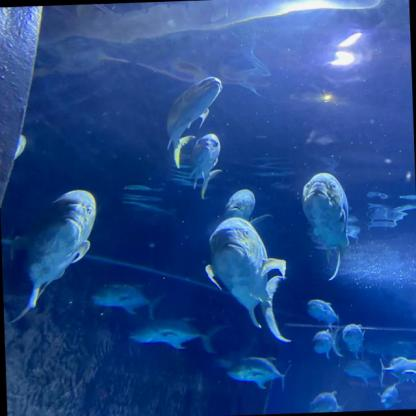fish: (204, 215, 291, 345), (19, 188, 99, 308), (164, 76, 226, 168), (302, 172, 351, 280), (129, 317, 231, 355), (92, 282, 164, 321), (189, 134, 223, 199), (228, 357, 293, 391), (223, 189, 270, 228), (378, 357, 415, 388), (310, 327, 341, 360), (306, 299, 339, 330), (344, 359, 384, 383), (307, 390, 348, 412), (342, 324, 366, 358), (378, 383, 402, 410)
